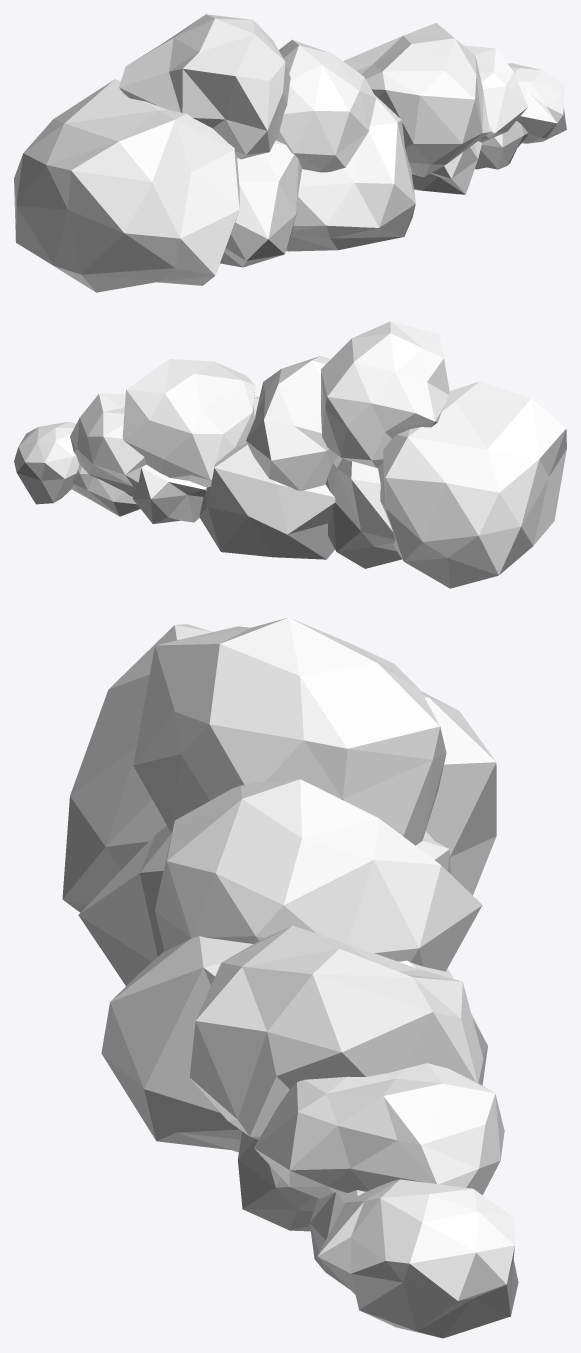
Rendered from Cloud.fbx.
The picture shows the model from 3 angles, top to bottom: view 1: azimuth 30°, elevation 25°; view 2: azimuth 150°, elevation 25°; view 3: azimuth 270°, elevation 25°; orthographic projection. The views are drawn at different scales.
Parts seen in each view (by area): view 1: Icosphere.009; view 2: Icosphere.009; view 3: Icosphere.009.
Boxes of the visible parts, x1,y1,x2,y2 form: Icosphere.009: (14, 14, 566, 292); Icosphere.009: (14, 321, 566, 588); Icosphere.009: (62, 617, 518, 1338).
Bounding box in the file's own units: 2.03 × 0.9006 × 0.8268.
